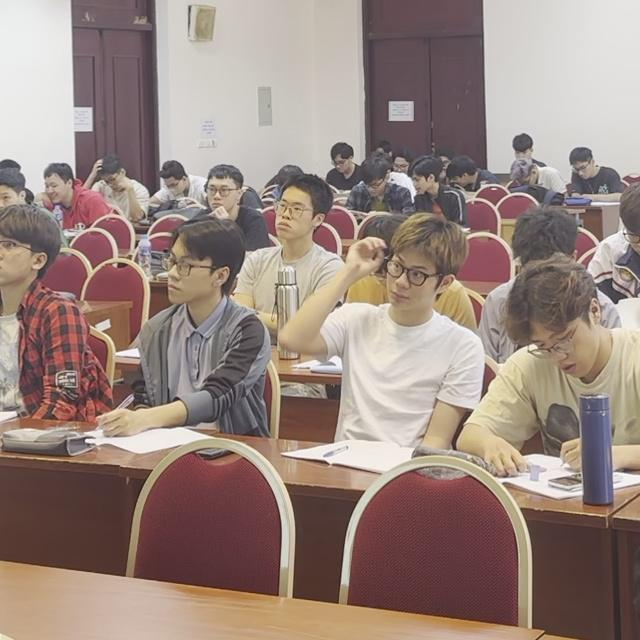Looking away: (531, 312, 598, 379), (44, 171, 70, 205), (101, 173, 126, 194), (361, 178, 389, 196), (331, 151, 351, 176), (571, 159, 596, 179), (409, 173, 429, 194), (164, 177, 187, 195), (449, 173, 474, 188), (510, 147, 533, 162)
Looking forward: (382, 245, 430, 314), (164, 246, 207, 305), (271, 188, 313, 243), (204, 176, 237, 213)
